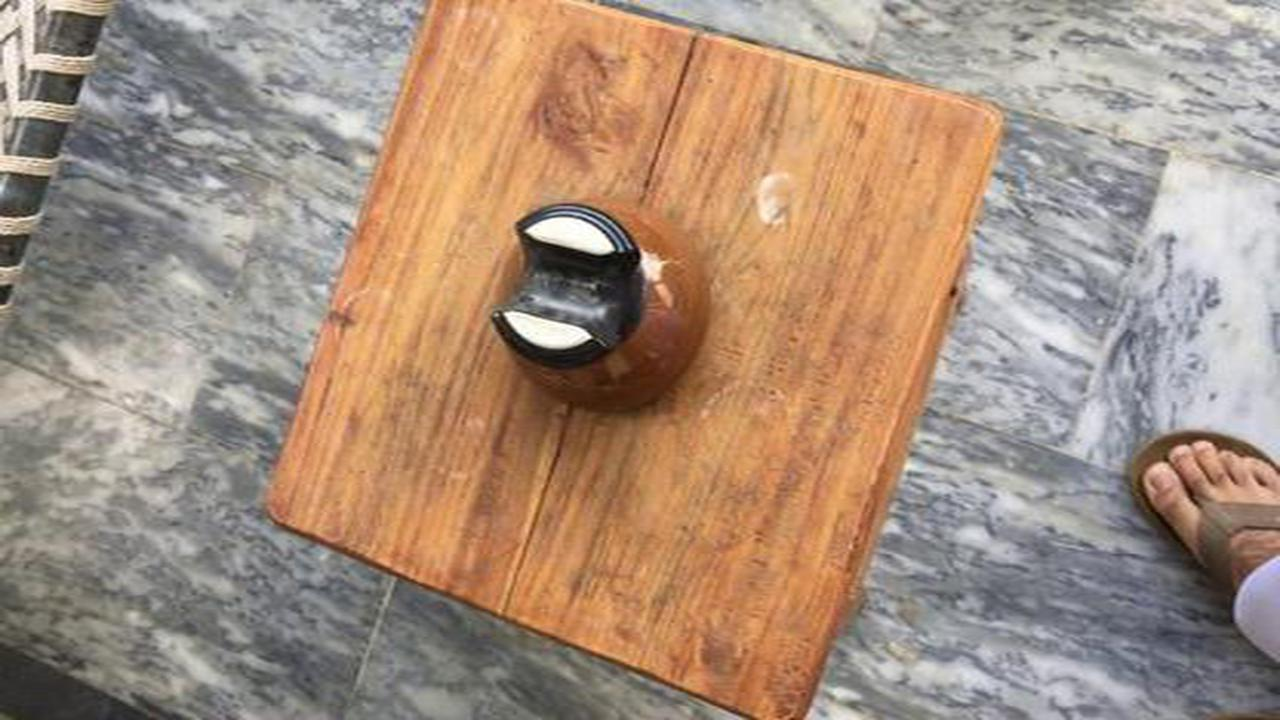insulator_pin: (468, 193, 736, 438)
